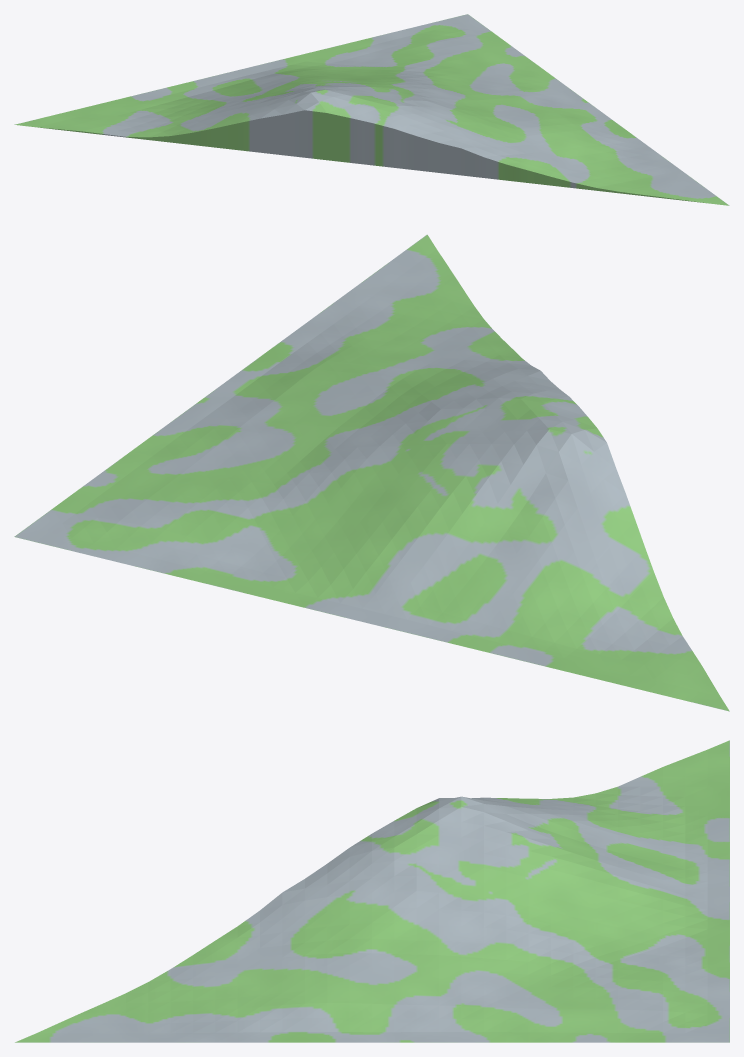
Rendered from Grass_RockyGround_09_SE.obj.
3 renders of one model, top to bottom at view 1: azimuth 30°, elevation 25°; view 2: azimuth 150°, elevation 25°; view 3: azimuth 270°, elevation 25°, orthographic. The views are drawn at different scales.
Bounding box in the file's own units: 10 × 1.17 × 10.
1 material, 1 textured.
